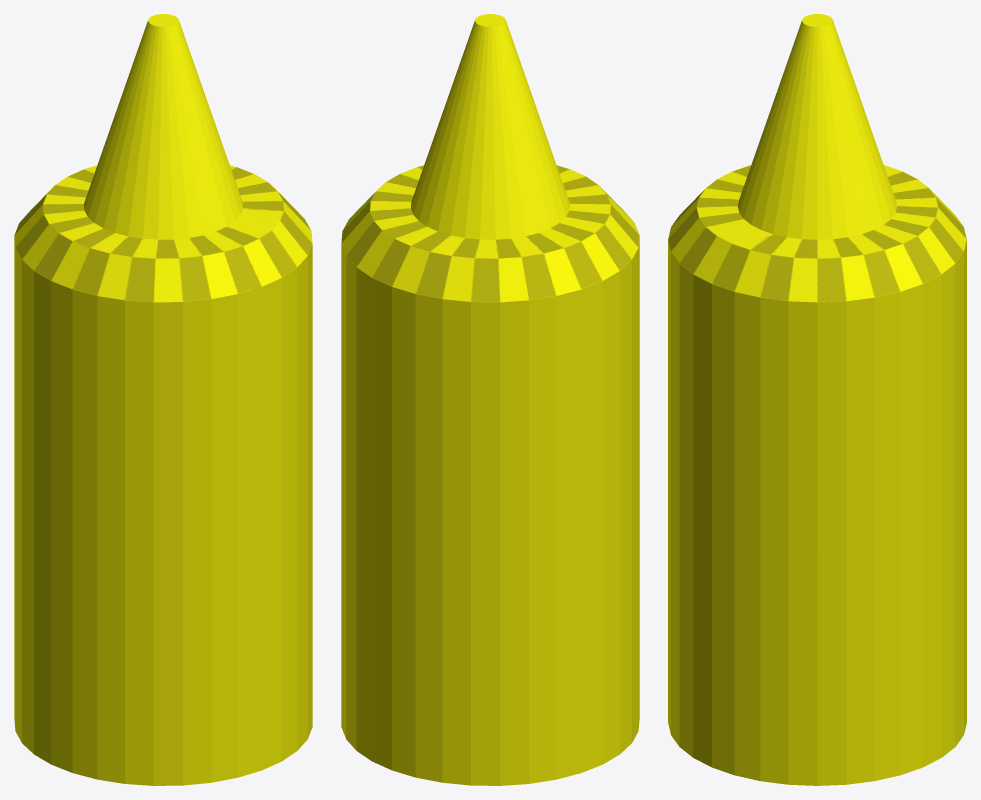
The model's file is bothel.fbx.
3 renders of one model, left to right at view 1: azimuth 30°, elevation 25°; view 2: azimuth 150°, elevation 25°; view 3: azimuth 270°, elevation 25°, orthographic.
Visible parts, largest first — view 1: Cylinder.002; view 2: Cylinder.002; view 3: Cylinder.002.
Part boxes in pixels (x1,y1,x2,y2): Cylinder.002: (14,14,312,785); Cylinder.002: (341,14,639,785); Cylinder.002: (668,14,966,785).
Size of the model in its own units: 6.97 by 6.97 by 18.08.
1 material, 1 textured.
